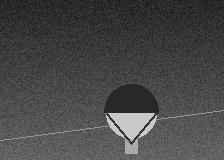helmet: (104, 84, 158, 143)
